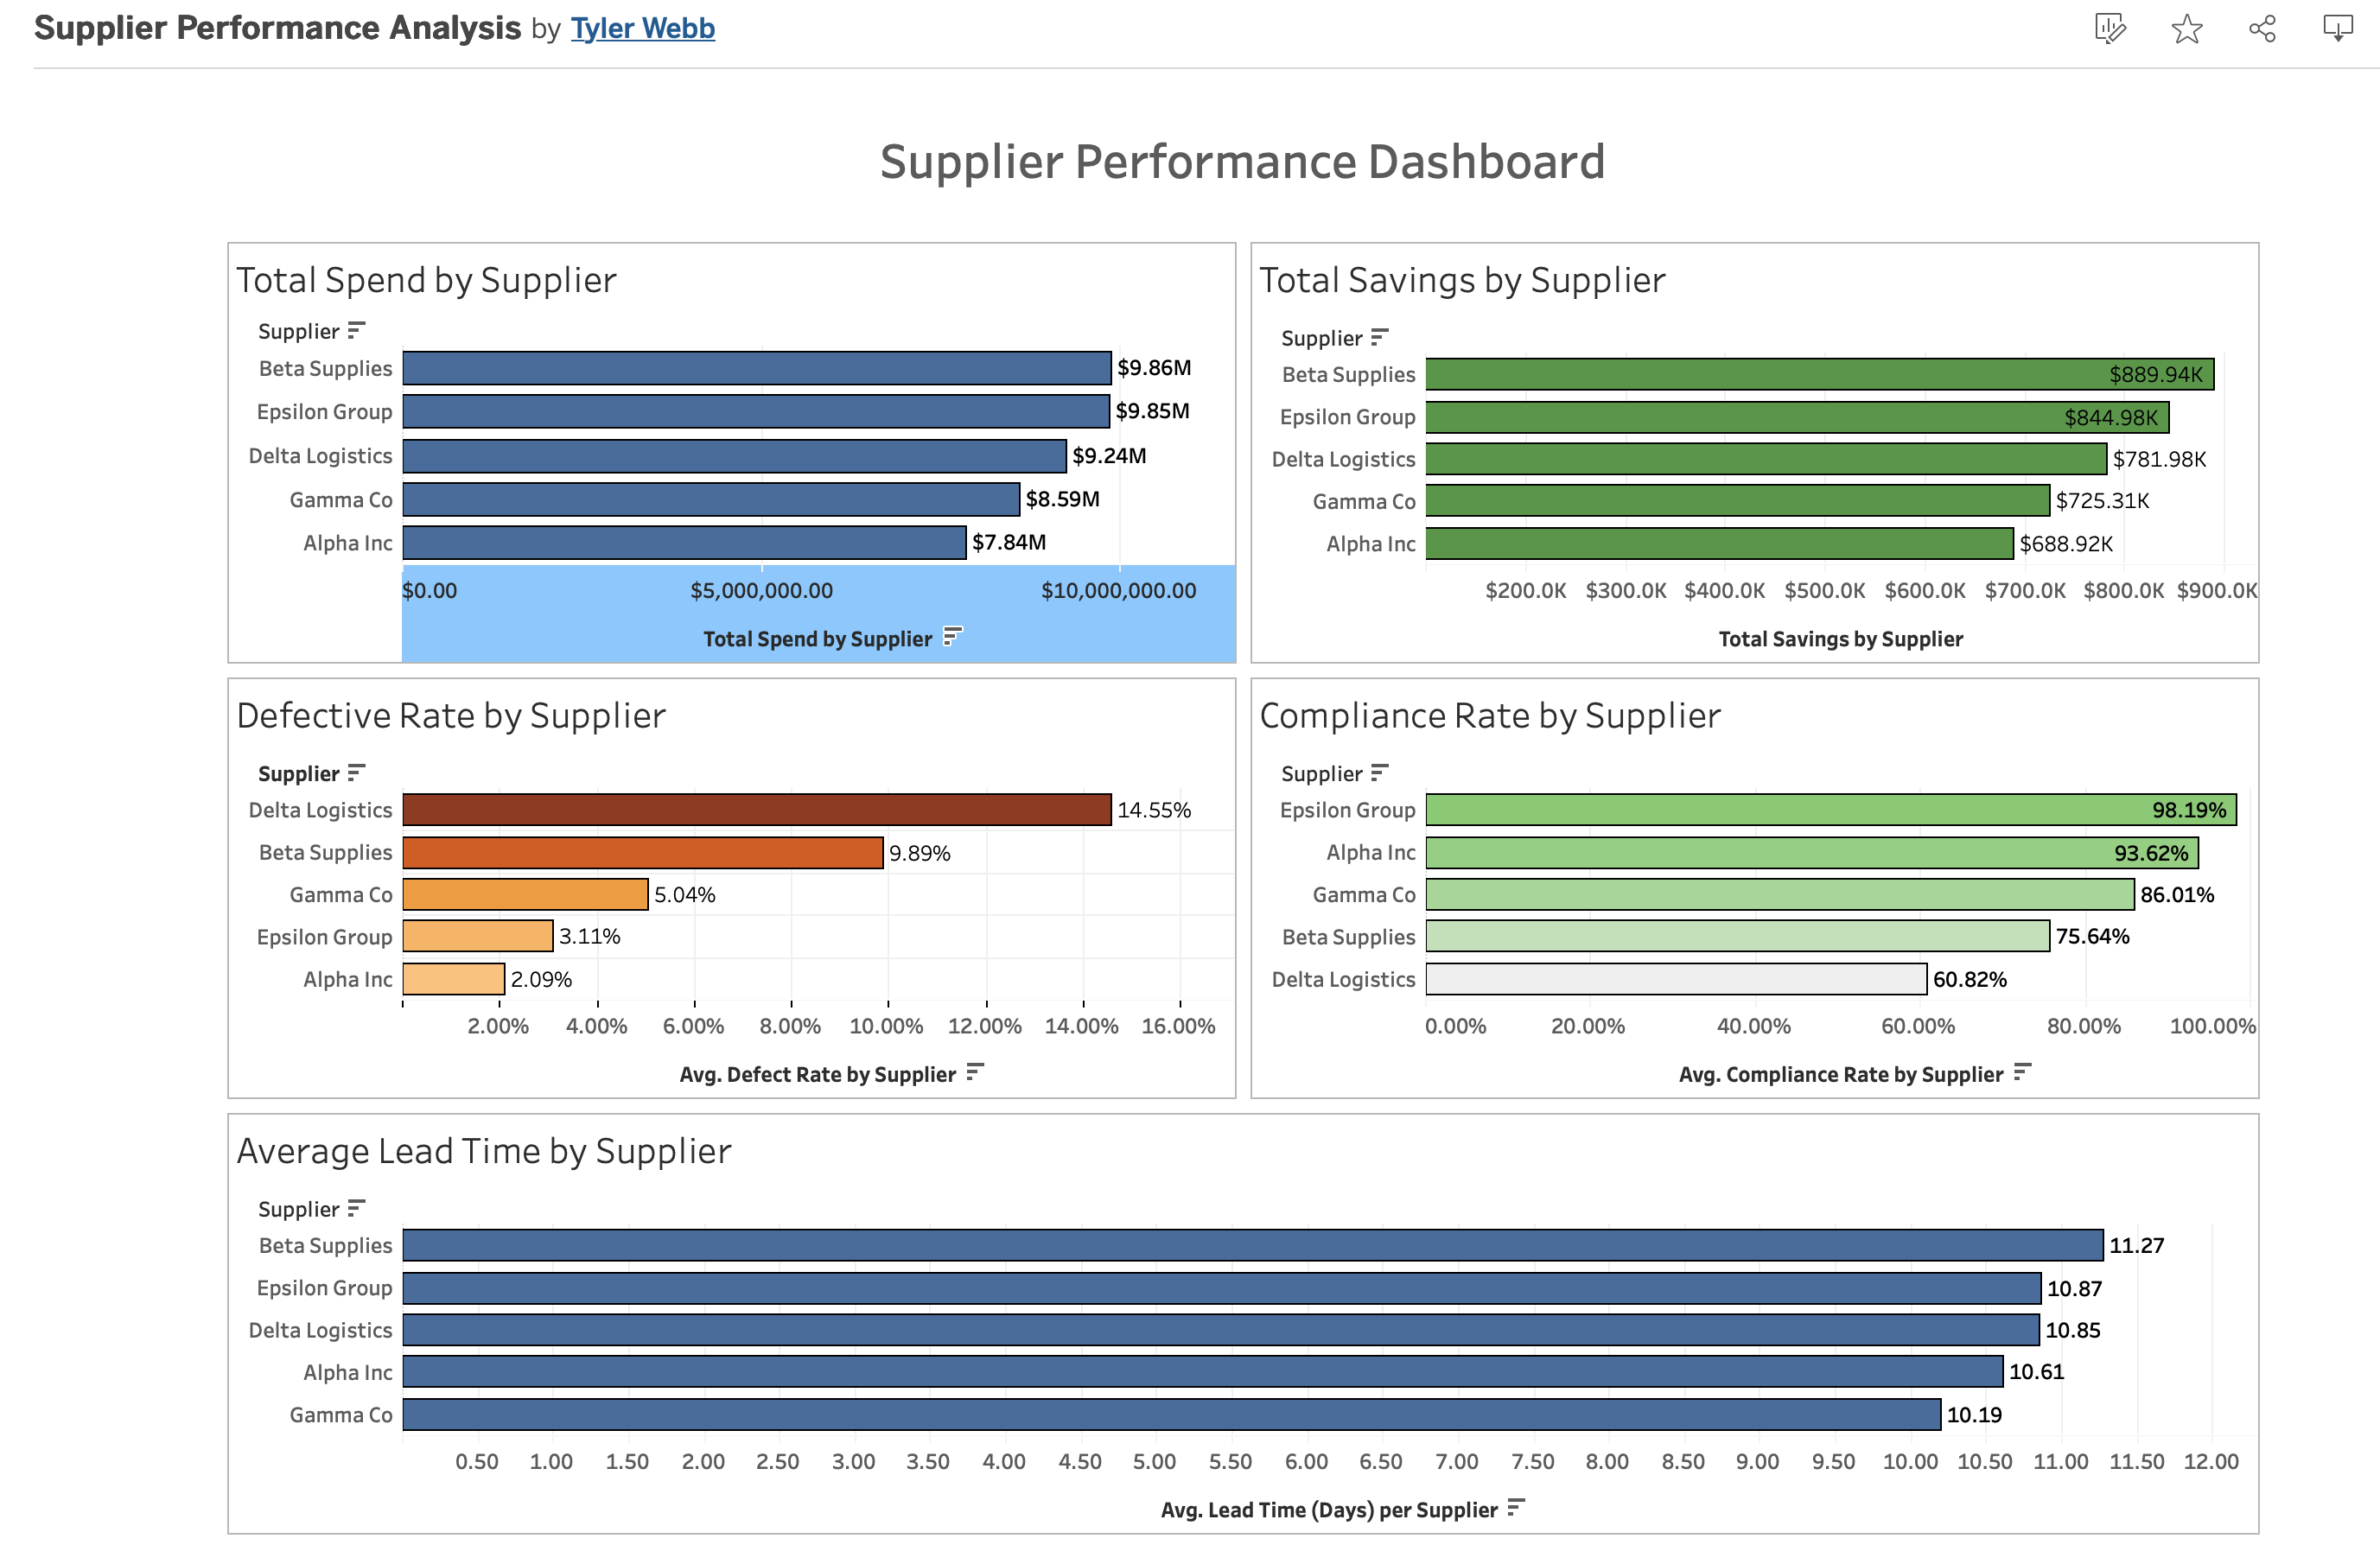

The dashboard page shown, as its layout file describes it:
{"tool":"tableau","page":{"name":"Dashboard 1","canvas":[1000,1000],"units":"permille","ordinal":0},"visuals":[{"type":"text","box":[6.7,9.3,986.7,102.3]},{"type":"worksheet","title":"Order Volume","mark":"Bar","rows":["supplier"],"cols":["actual_spend"],"box":[6.7,111.6,493.3,293]},{"type":"worksheet","title":"Savings Supplier","mark":"Bar","rows":["supplier"],"cols":["total_savings"],"box":[500,111.6,493.3,293]},{"type":"worksheet","title":"Defective Rate","mark":"Bar","rows":["supplier"],"cols":["defect_rate"],"box":[6.7,404.6,493.3,293]},{"type":"worksheet","title":"Compliance Rate","mark":"Bar","rows":["supplier"],"cols":["Calculation_1017039504064905216"],"box":[500,404.6,493.3,293]},{"type":"worksheet","title":"Lead Time","mark":"Bar","rows":["supplier"],"cols":["delivery_lead_time"],"box":[6.7,697.6,986.7,293]}]}

Visuals, with their boxes on the dashboard's canvas, which has no fixed pixel size, in thousandths of its width and height (x1, y1, x2, y2). These are canvas units, not pixel positions in the 2380x1545 screenshot, which may show the page scaled, cropped or inside an application window:
text: x1=7, y1=9, x2=993, y2=112
"Order Volume" worksheet (Bar marks): x1=7, y1=112, x2=500, y2=405
"Savings Supplier" worksheet (Bar marks): x1=500, y1=112, x2=993, y2=405
"Defective Rate" worksheet (Bar marks): x1=7, y1=405, x2=500, y2=698
"Compliance Rate" worksheet (Bar marks): x1=500, y1=405, x2=993, y2=698
"Lead Time" worksheet (Bar marks): x1=7, y1=698, x2=993, y2=991
